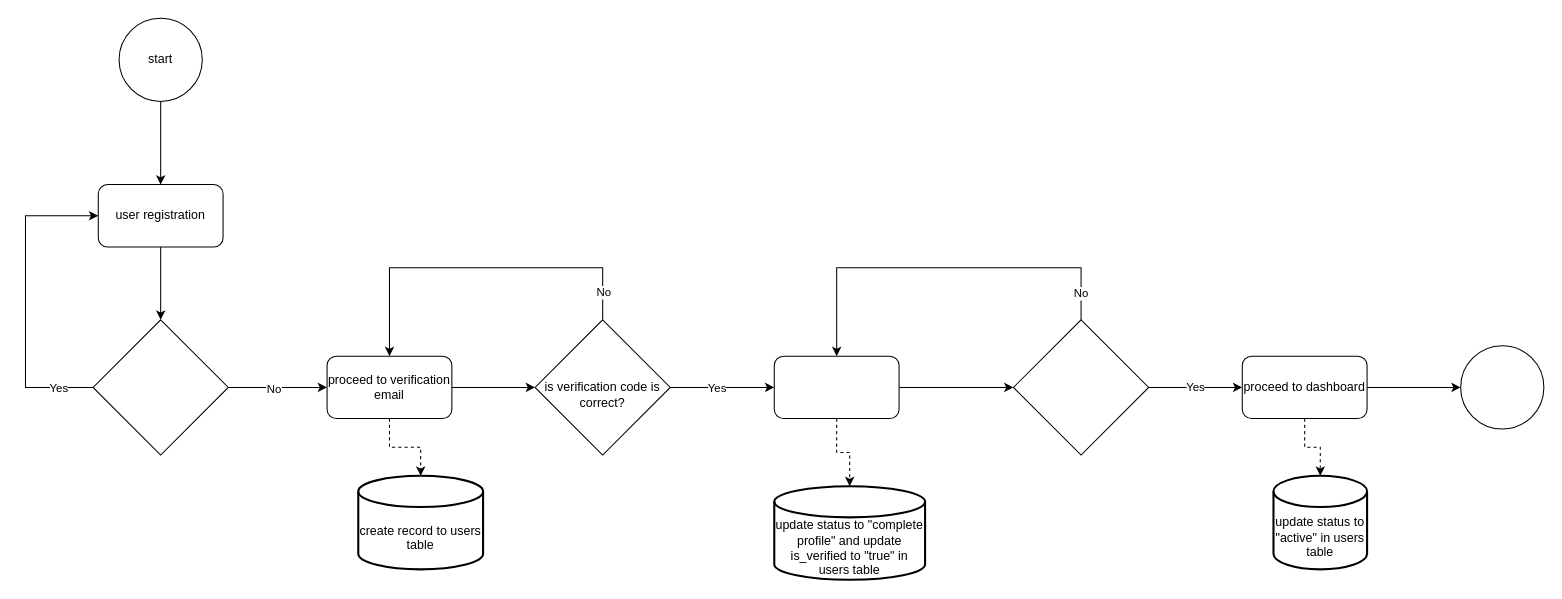
Image size: 1562x599. Some labels were removed from this diagram. Each missing label, with the centre of its shape:
"end" goes at pixel 1502 387.
"is all information valid?" goes at pixel 1080 387.
"is company name already exist?" goes at pixel 160 387.
"proceed to complete profile" goes at pixel 836 387.
